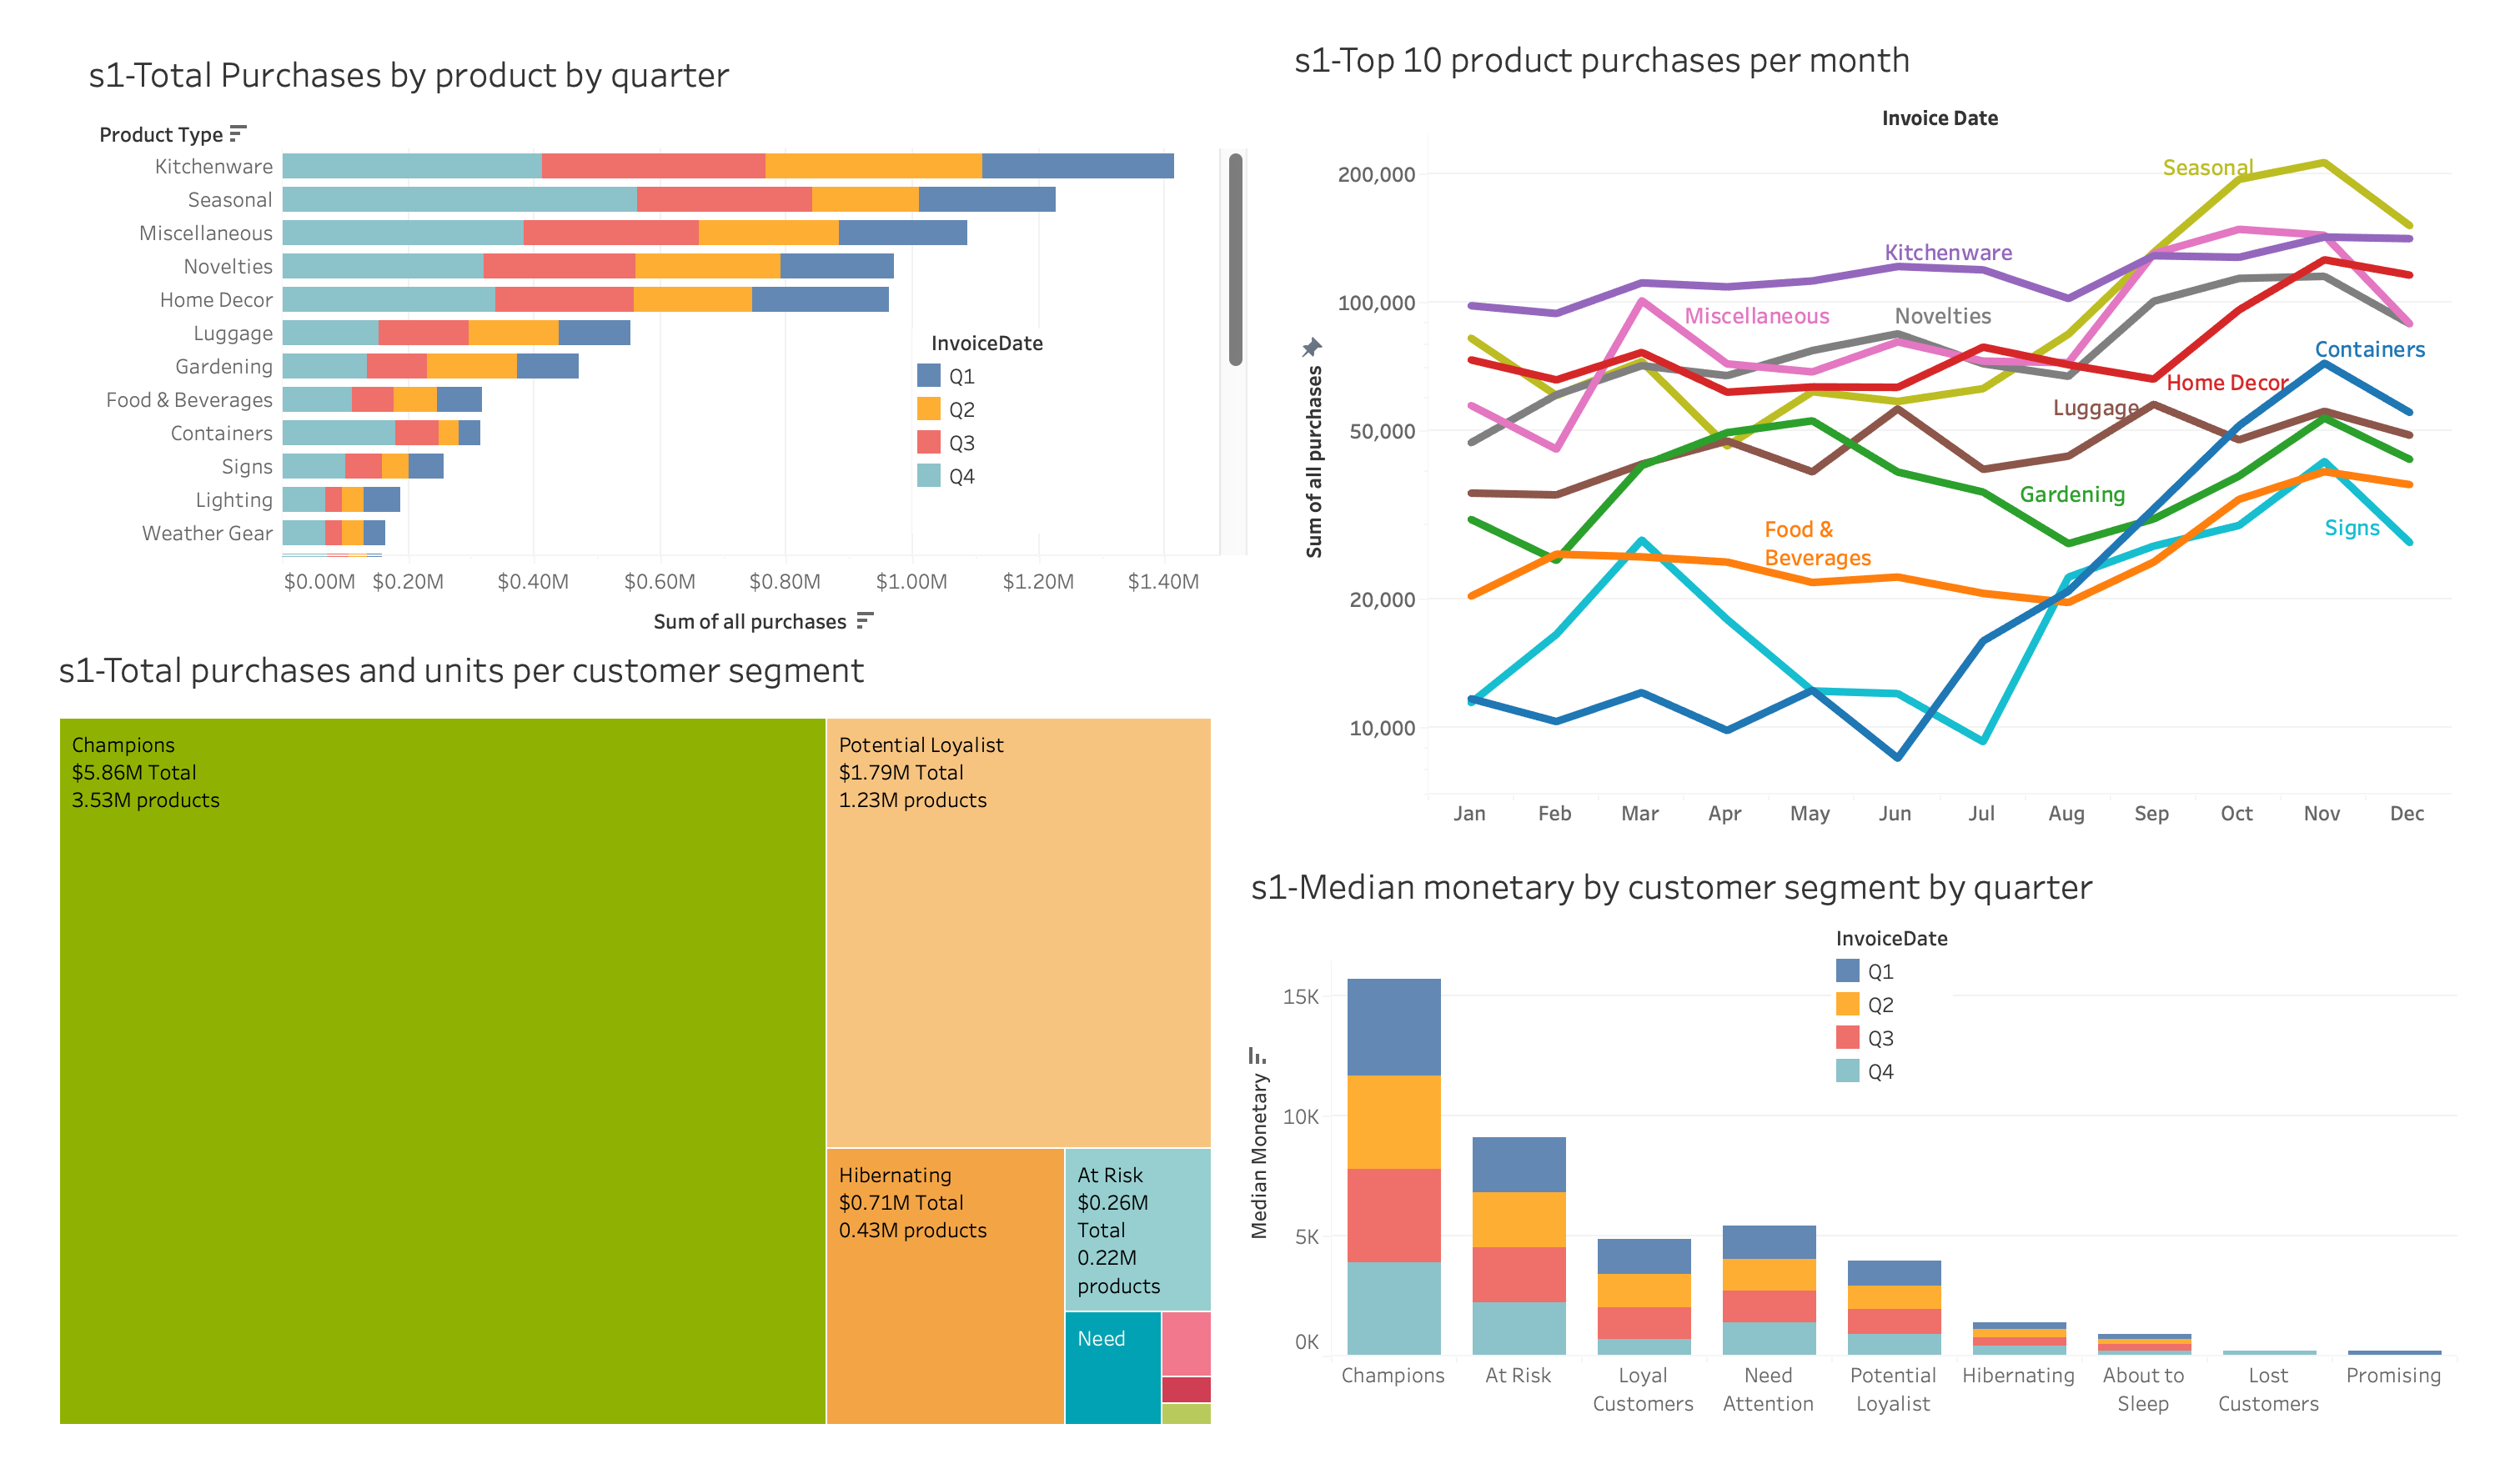

What the dashboard file says about the page in this screenshot:
{"tool":"tableau","page":{"name":"sheet-1-dashboard-2009-2010","canvas":[1000,1000],"units":"permille","ordinal":0},"visuals":[{"type":"worksheet","title":"s1-Top 10 product purchases per month","mark":"Line","rows":["TotalPrice"],"cols":["InvoiceDate"],"box":[498.3,4.9,484.7,574.6]},{"type":"worksheet","title":"s1-Total Purchases by product by quarter","mark":"Automatic","rows":["Product Type"],"cols":["TotalPrice"],"box":[4.8,7.3,487.4,426.7]},{"type":"legend","title":"s1-Total Purchases by product by quarter","param":"[federated.0kbcoit1qrj26a14op06j1ra9u5n].[qr:InvoiceDate:ok]","box":[355.3,213.9,61.3,143]},{"type":"worksheet","title":"s1-Total purchases and units per customer segment","mark":"Automatic","box":[4.1,425.4,500.3,558.7]},{"type":"worksheet","title":"s1-Median monetary by customer segment by quarter","mark":"Automatic","rows":["Monetary"],"cols":["segment"],"box":[473.8,581.9,522.1,394.9]},{"type":"legend","title":"s1-Median monetary by customer segment by quarter","param":"[federated.0kbcoit1qrj26a14op06j1ra9u5n].[qr:InvoiceDate:ok]","box":[729.8,629.6,49.7,125.9]}]}

Visuals, with their boxes on the dashboard's canvas, which has no fixed pixel size, in thousandths of its width and height (x1, y1, x2, y2). These are canvas units, not pixel positions in the 2505x1484 screenshot, which may show the page scaled, cropped or inside an application window:
"s1-Top 10 product purchases per month" worksheet (Line marks): (left=498, top=5, right=983, bottom=580)
"s1-Total Purchases by product by quarter" worksheet: (left=5, top=7, right=492, bottom=434)
"s1-Total Purchases by product by quarter" legend: (left=355, top=214, right=417, bottom=357)
"s1-Total purchases and units per customer segment" worksheet: (left=4, top=425, right=504, bottom=984)
"s1-Median monetary by customer segment by quarter" worksheet: (left=474, top=582, right=996, bottom=977)
"s1-Median monetary by customer segment by quarter" legend: (left=730, top=630, right=780, bottom=756)
